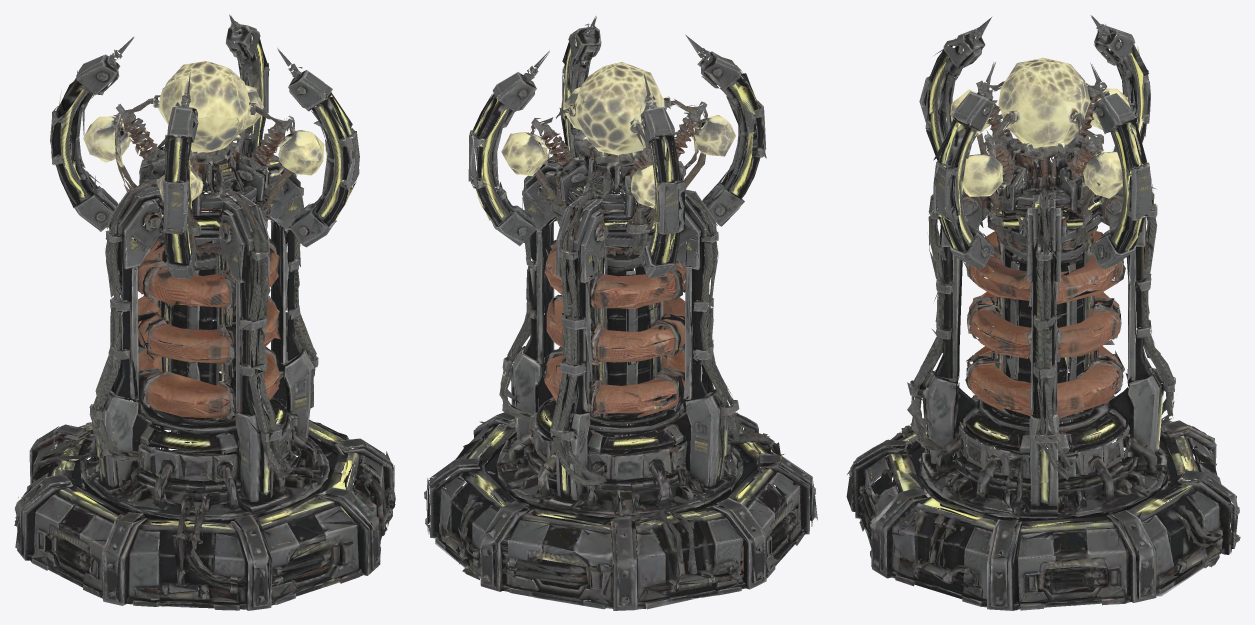
The model's file is tower_tesla_t5.glb.
3 renders of one model, left to right at view 1: azimuth 30°, elevation 25°; view 2: azimuth 150°, elevation 25°; view 3: azimuth 270°, elevation 25°, orthographic.
Visible parts, largest first — view 1: body; view 2: body; view 3: body.
Part boxes in pixels (x1,y1,x2,y2): body: [14, 14, 395, 610]; body: [424, 16, 817, 610]; body: [846, 15, 1240, 610].
Size of the model in its own units: 0.8462 by 1.19 by 0.8566.
1 material, 1 textured.
